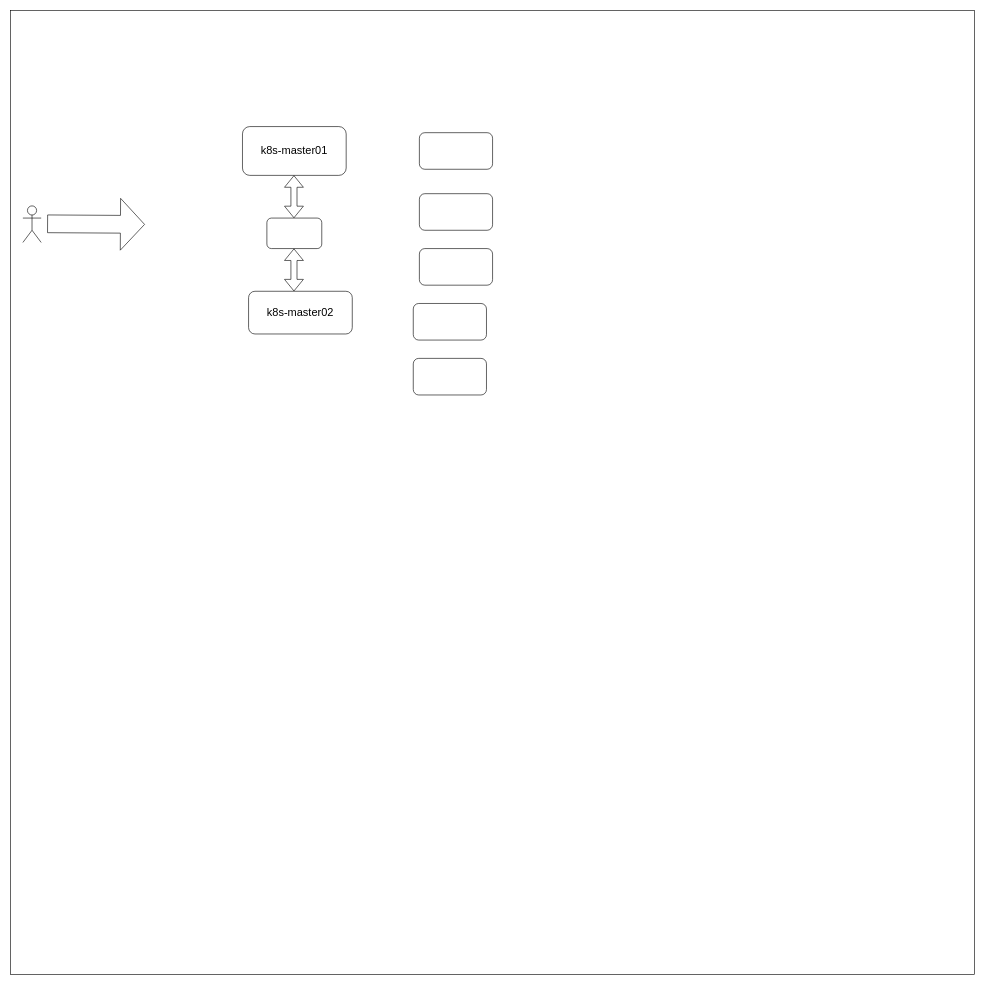
Image size: 985x985. Some labels were removed from this diagram. Here are the shapes that lost their labels. From the top down, the box of each, then its label:
(22, 205, 41, 242): Actor
(266, 217, 322, 249): HAProxy
